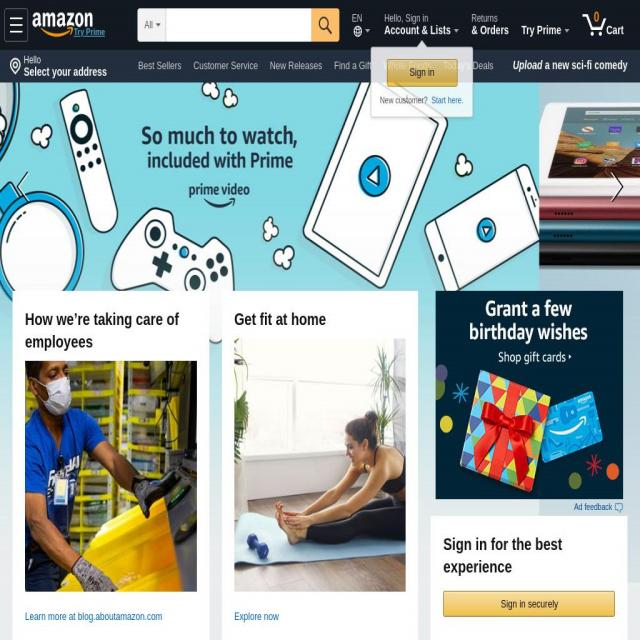button: (234, 338, 406, 592), (25, 360, 197, 592), (436, 290, 625, 500), (0, 82, 50, 291), (590, 82, 640, 291), (443, 591, 616, 617), (33, 4, 133, 46), (444, 592, 615, 616), (378, 5, 465, 47), (7, 51, 114, 83), (576, 5, 638, 47), (516, 5, 575, 47), (466, 5, 515, 47), (387, 59, 458, 87), (188, 55, 263, 77), (342, 5, 377, 47), (264, 55, 328, 77), (438, 55, 499, 77), (378, 55, 437, 77), (133, 55, 187, 77), (329, 55, 377, 77), (310, 8, 340, 42), (137, 9, 166, 42), (4, 8, 28, 42)
field: (166, 9, 312, 41)
